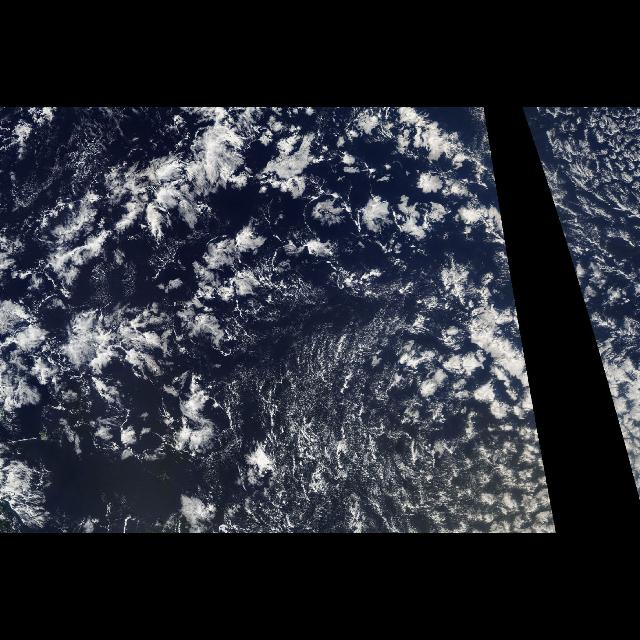Flower: (0, 109, 556, 533), (563, 243, 639, 502)
Gravel: (290, 320, 410, 492)
Sugar: (229, 302, 556, 534)
